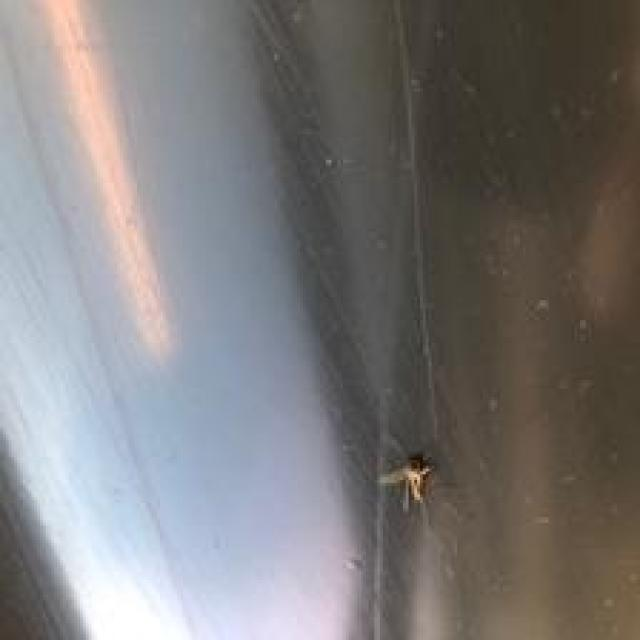Culex: (376, 452, 436, 512)
